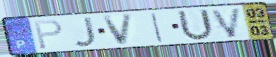I: (150, 11, 165, 44)
J: (73, 16, 99, 48)
P: (32, 19, 64, 51)
U: (175, 8, 216, 42)
V: (101, 12, 135, 47), (209, 6, 244, 39)
